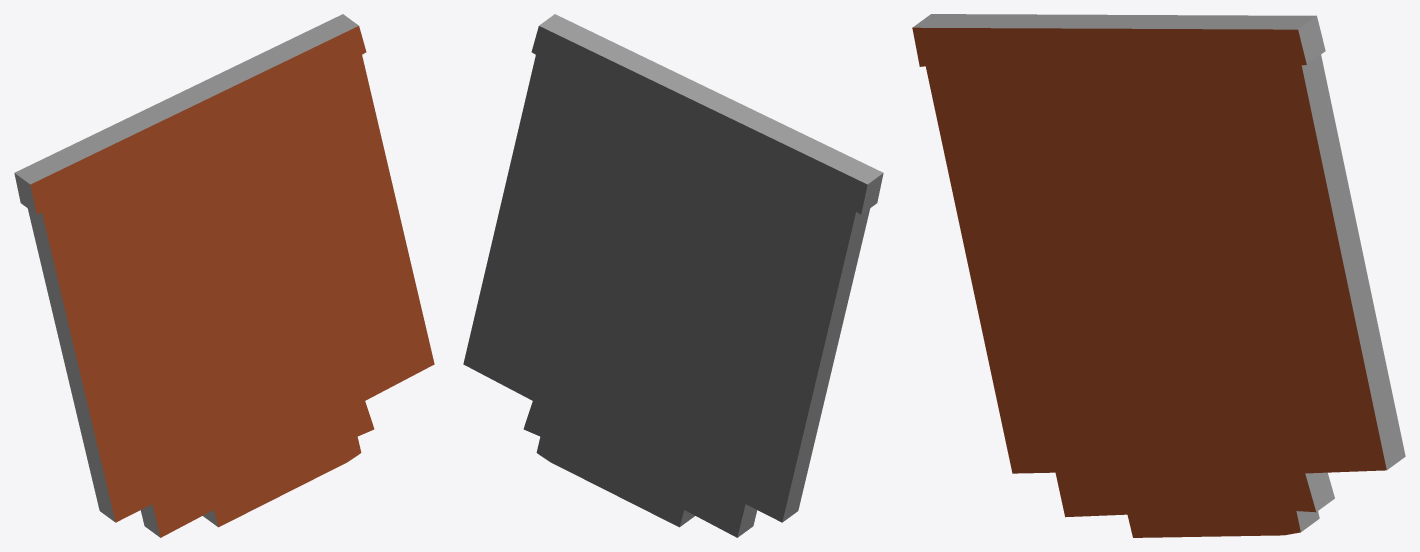
The model's file is construction_0129_assumed_A_Grande_construcao_h6m.obj.
3 views of the same model, side by side, from view 1: azimuth 30°, elevation 25°; view 2: azimuth 150°, elevation 25°; view 3: azimuth 330°, elevation 25° (orthographic). The views are drawn at different scales.
Visible parts, largest first — view 1: construction_0129_assumed_A_Grande_construcao; view 2: construction_0129_assumed_A_Grande_construcao; view 3: construction_0129_assumed_A_Grande_construcao.
Part boxes in pixels (x1,y1,x2,y2): construction_0129_assumed_A_Grande_construcao: (14, 14, 434, 537); construction_0129_assumed_A_Grande_construcao: (463, 14, 883, 537); construction_0129_assumed_A_Grande_construcao: (912, 14, 1405, 537).
Size of the model in its own units: 87.24 by 96.38 by 6.
